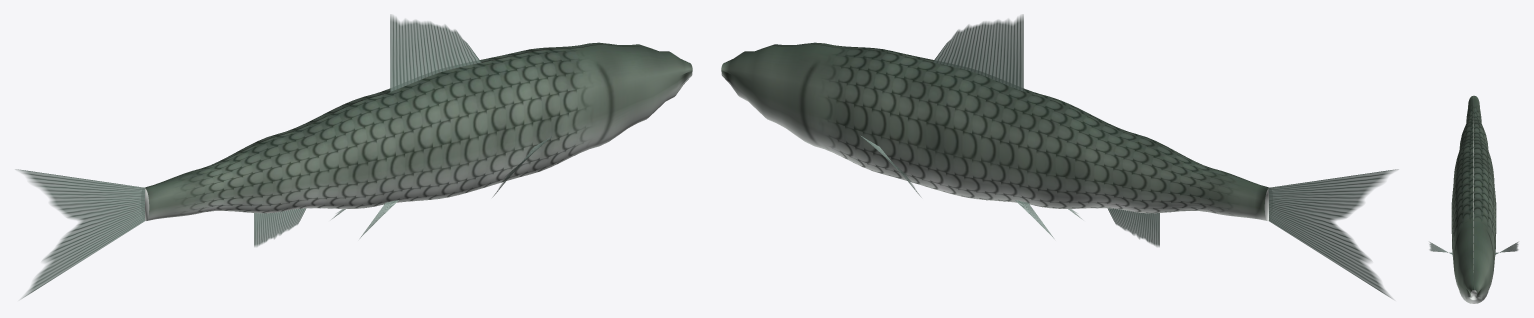
File: amur.glb
3 views of the same model, side by side, from view 1: azimuth 30°, elevation 25°; view 2: azimuth 150°, elevation 25°; view 3: azimuth 270°, elevation 25° (orthographic). The views are drawn at different scales.
Visible parts, largest first — view 1: amur; view 2: amur; view 3: amur.
Part boxes in pixels (x1=…): amur: x1=15, y1=14, x2=692, y2=299; amur: x1=721, y1=14, x2=1398, y2=299; amur: x1=1429, y1=95, x2=1518, y2=303.
Size of the model in its own units: 0.7688 by 0.2255 by 0.127.
1 material, 1 textured.
